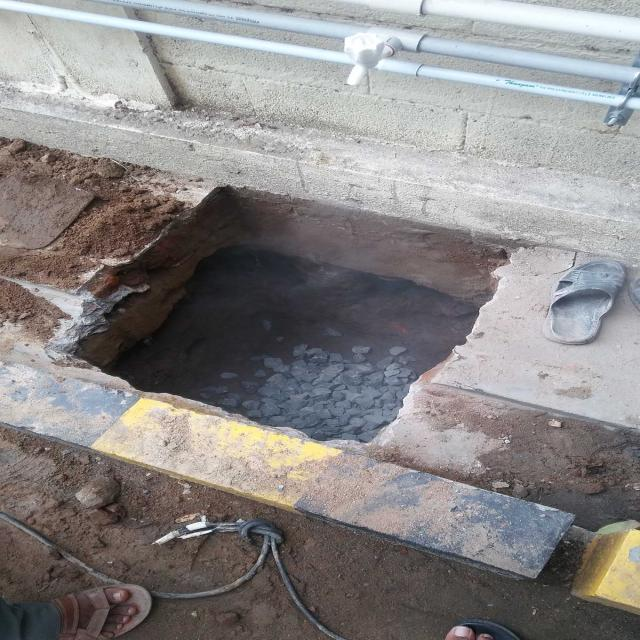hole: (47, 168, 560, 463)
